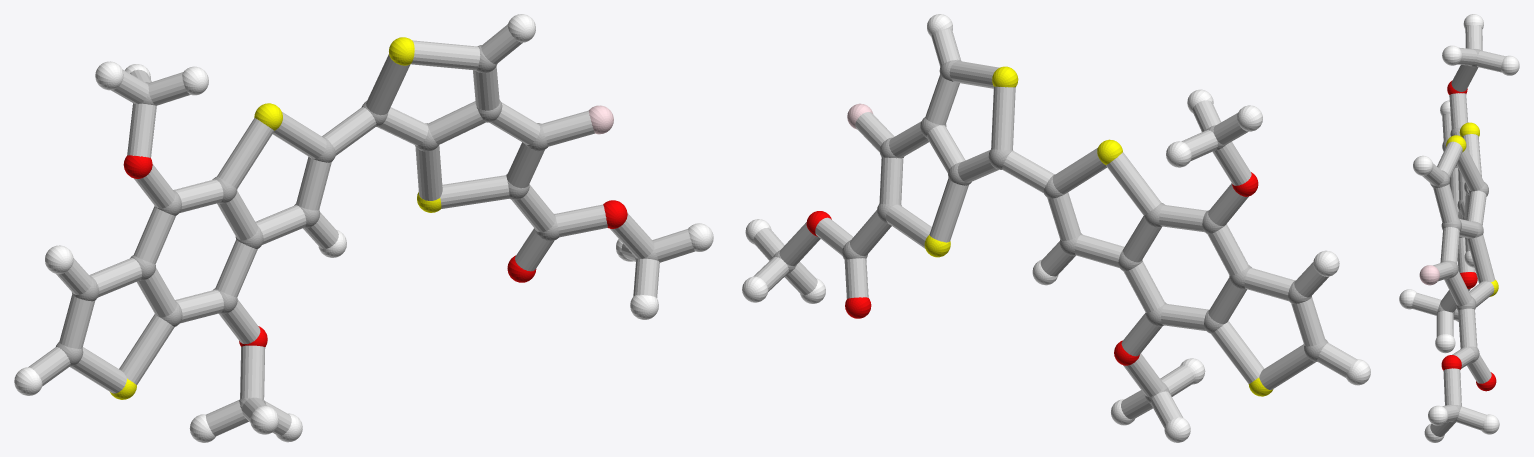
The model's file is Dimethoxy_Benzodithiophene_Phi_30_Theta_190_Methylcarbonyl_3_Fluoro_Thienothiophene.glb.
The picture shows the model from 3 angles, left to right: view 1: azimuth 30°, elevation 25°; view 2: azimuth 150°, elevation 25°; view 3: azimuth 270°, elevation 25°; orthographic projection. The views are drawn at different scales.
Parts seen in each view (by area): view 1: grp15205, grp8689, grp1, grp13395, grp7241; view 2: grp15205, grp8689, grp1, grp7241, grp13395; view 3: grp15205, grp8689, grp1, grp13395, grp7241, grp14843.
Boxes of the visible parts, <box> form: grp15205: <box>28,24,694,436</box>; grp8689: <box>14,14,713,442</box>; grp1: <box>56,45,658,409</box>; grp13395: <box>123,155,627,346</box>; grp7241: <box>110,37,441,399</box>; grp15205: <box>753,29,1356,428</box>; grp8689: <box>742,14,1370,442</box>; grp1: <box>772,59,1328,404</box>; grp7241: <box>924,66,1273,396</box>; grp13395: <box>806,172,1258,365</box>; grp15205: <box>1412,25,1505,436</box>; grp8689: <box>1399,14,1519,442</box>; grp1: <box>1430,49,1488,422</box>; grp13395: <box>1441,80,1496,391</box>; grp7241: <box>1446,122,1498,296</box>; grp14843: <box>1419,265,1439,285</box>.
Size of the model in its own units: 16.5 by 9.2 by 3.55.
